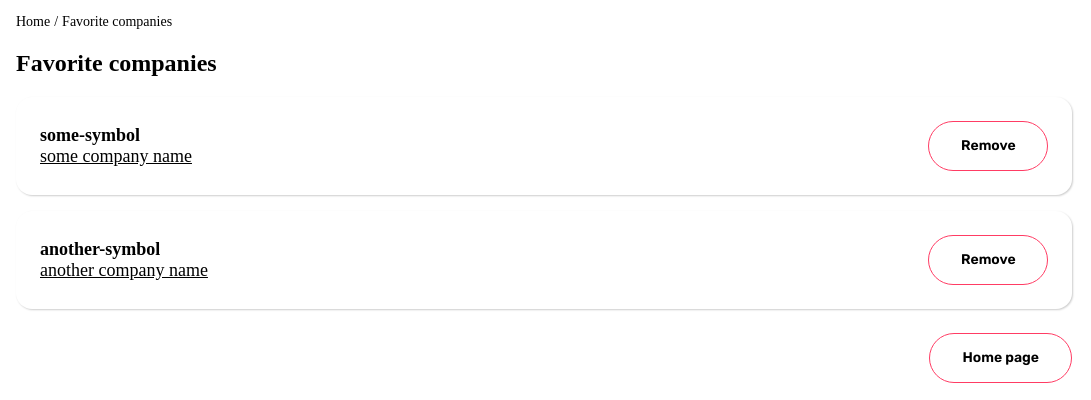
it: Favorites page component › removes a company from saved companies list when user clicks on the remove button
Click the button "Remove" in the row of "some company name" at [988, 146], box [928,121,1048,171]
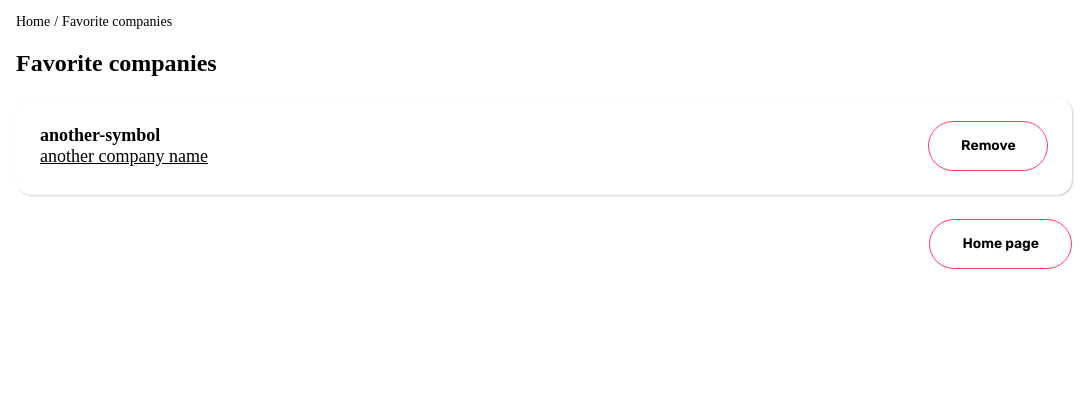
Check: the text "another-symbol" is shown, box [40,125,160,146]
Check: the link "some-symbol" is gone
Check: the link "some company name" is gone
